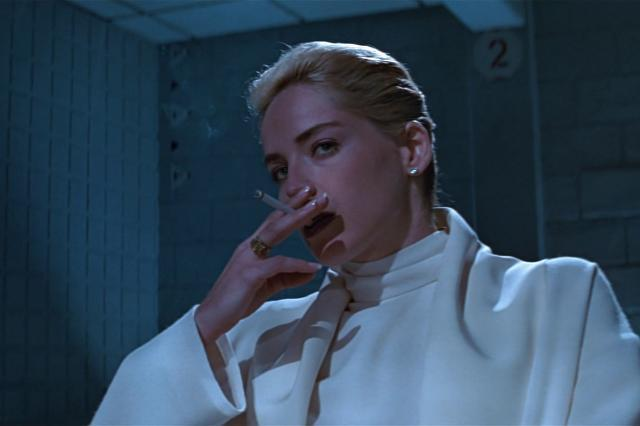SafeDriving: (304, 129, 346, 162), (262, 155, 294, 185)
Smoking: (253, 188, 299, 218)
